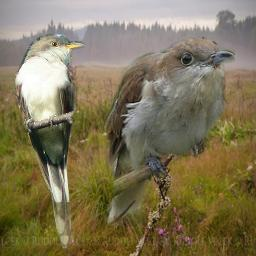Cuckoo: (101, 35, 235, 226), (15, 33, 85, 250)
